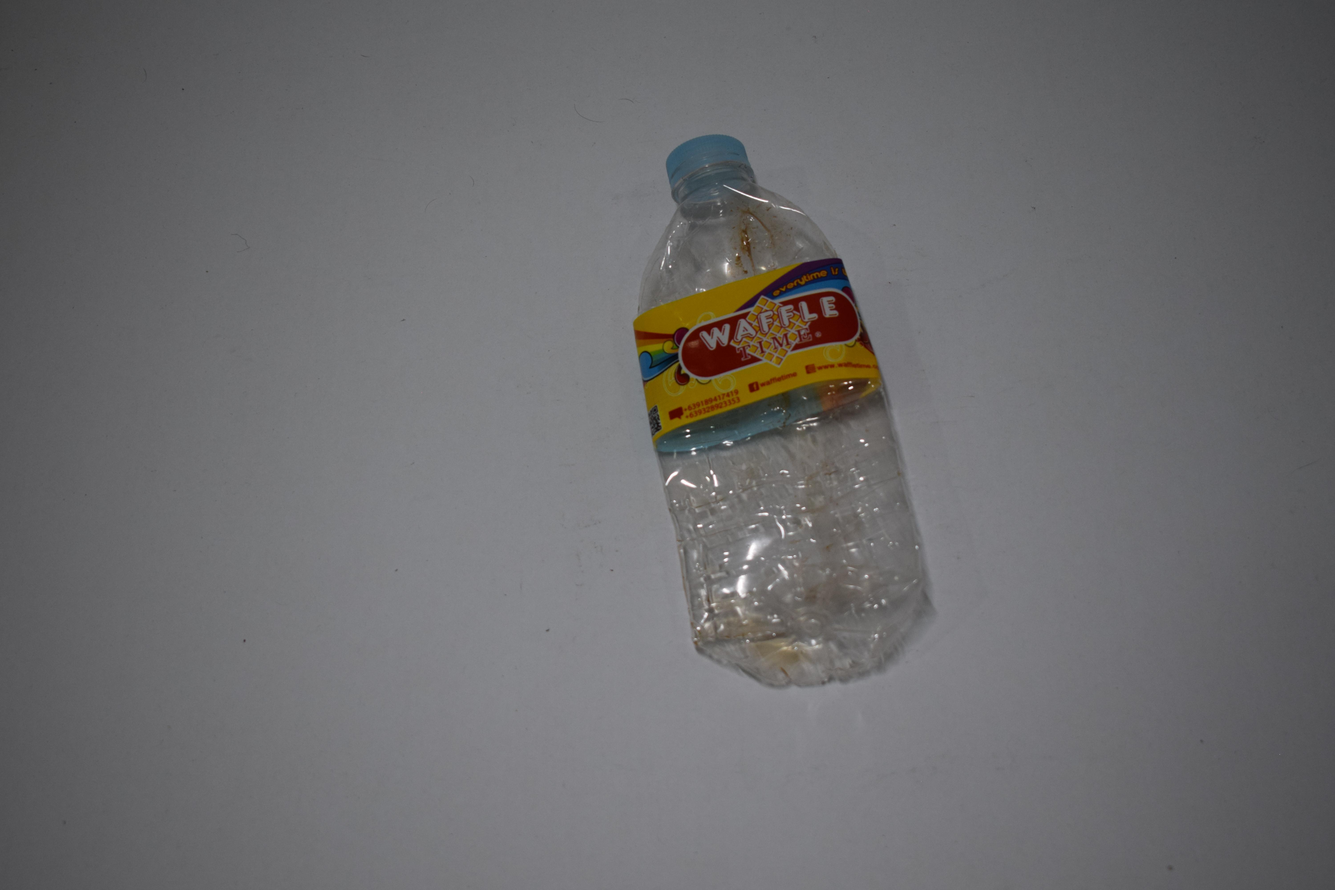plastic: (630, 134, 938, 693)
